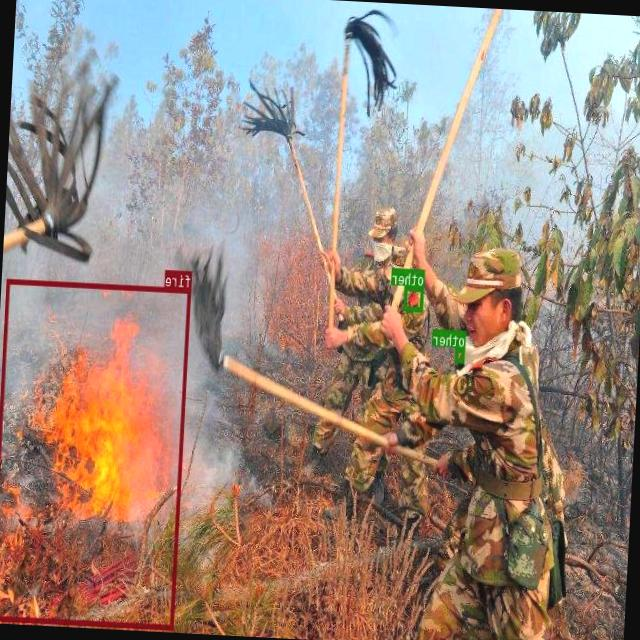fire: (0, 279, 191, 629)
